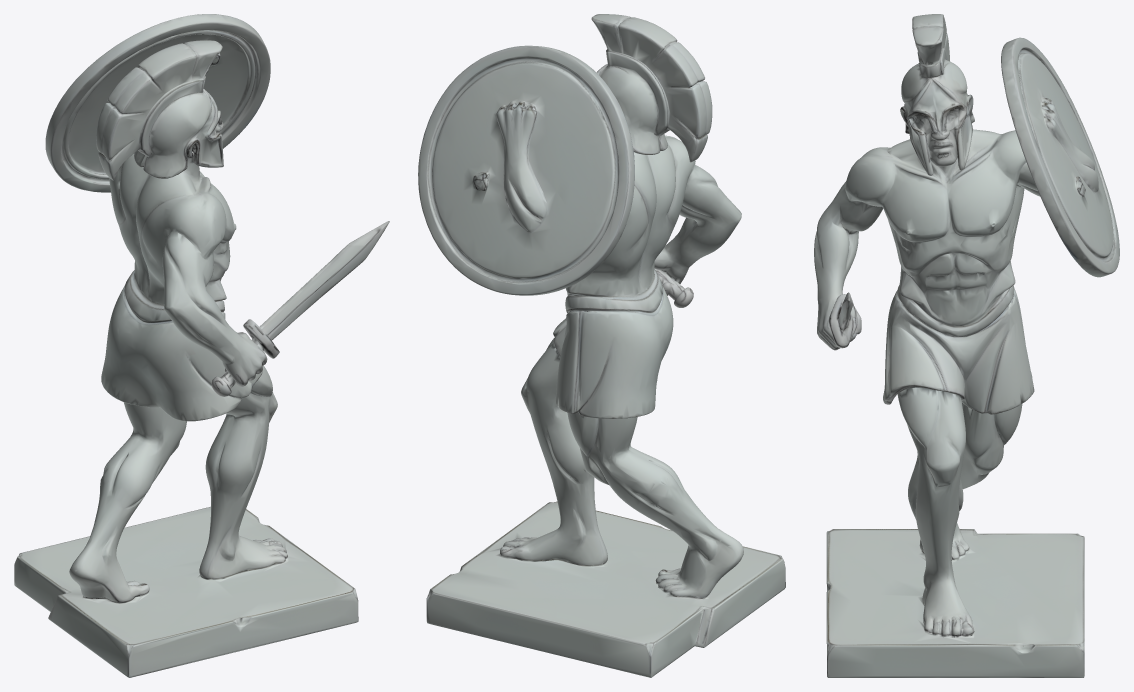
The model's file is prop_statue_a.glb.
The picture shows the model from 3 angles, left to right: view 1: azimuth 30°, elevation 25°; view 2: azimuth 150°, elevation 25°; view 3: azimuth 270°, elevation 25°; orthographic projection. The views are drawn at different scales.
Parts seen in each view (by area): view 1: material; view 2: material; view 3: material.
Boxes of the visible parts, x1=… form: material: x1=14, y1=14, x2=389, y2=677; material: x1=418, y1=14, x2=785, y2=677; material: x1=814, y1=14, x2=1119, y2=677.
Bounding box in the file's own units: 0.5188 × 1.01 × 0.4736.
1 material, 1 textured.
